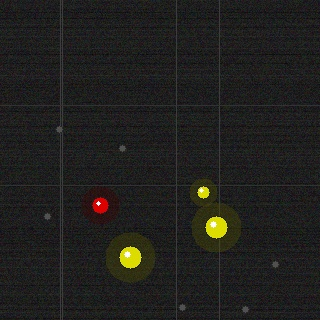red_fault: (90, 195, 110, 215)
yellow_warning: (117, 244, 143, 270), (203, 214, 229, 240), (195, 184, 211, 200)
